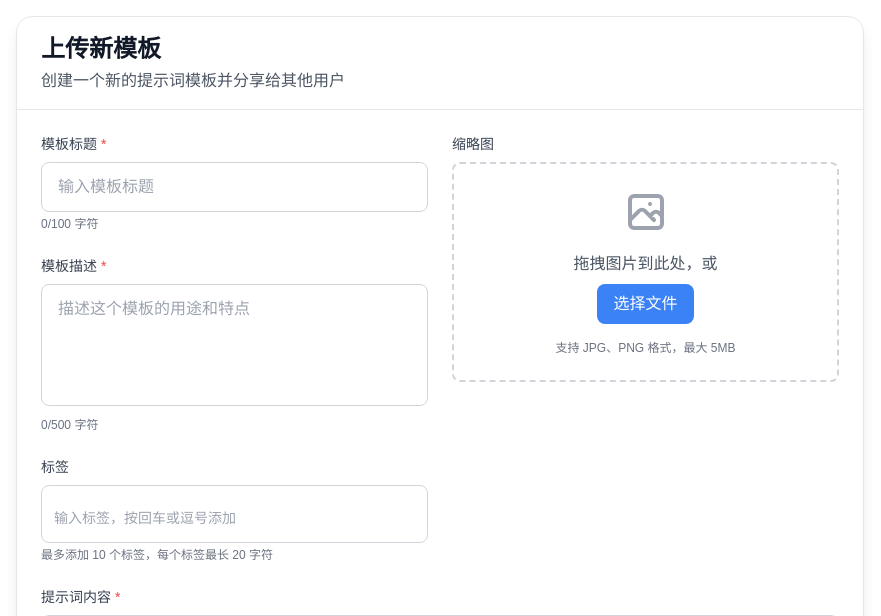
Test: TemplateUpload Component › handles description input correctly
In the text box with test id "description-input": coordinates (234, 345) [41,284,428,406], type "测试描述"
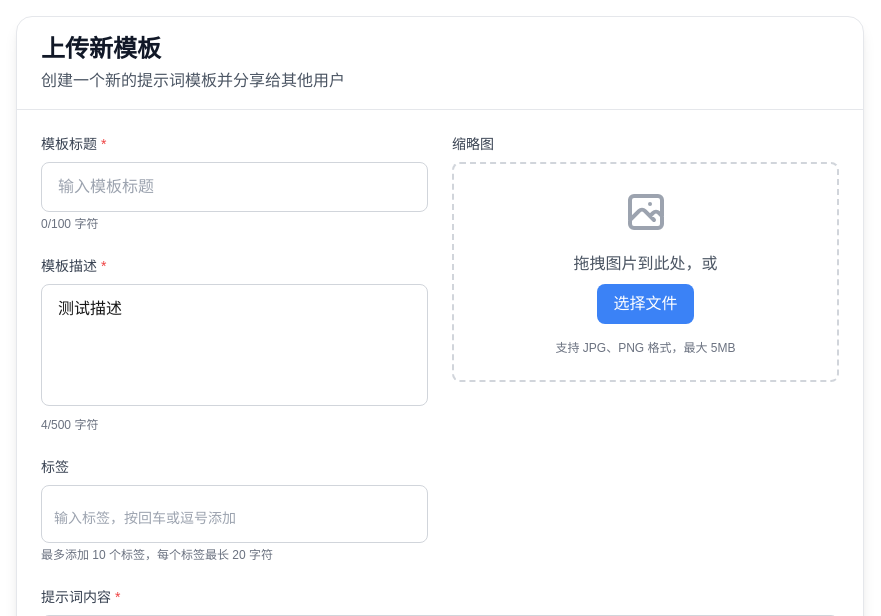
Expected: the text "4/500 字符" is shown, [41,418,98,432]
